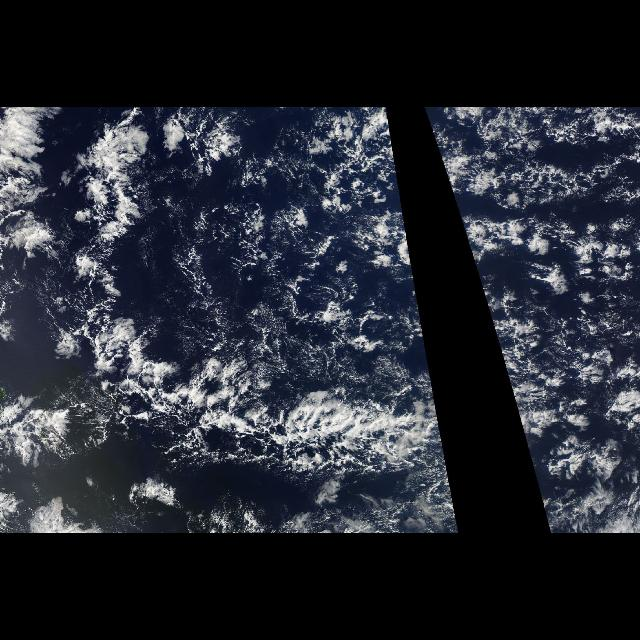Fish: (3, 110, 453, 512)
Gravel: (444, 110, 640, 400), (240, 174, 436, 400)
